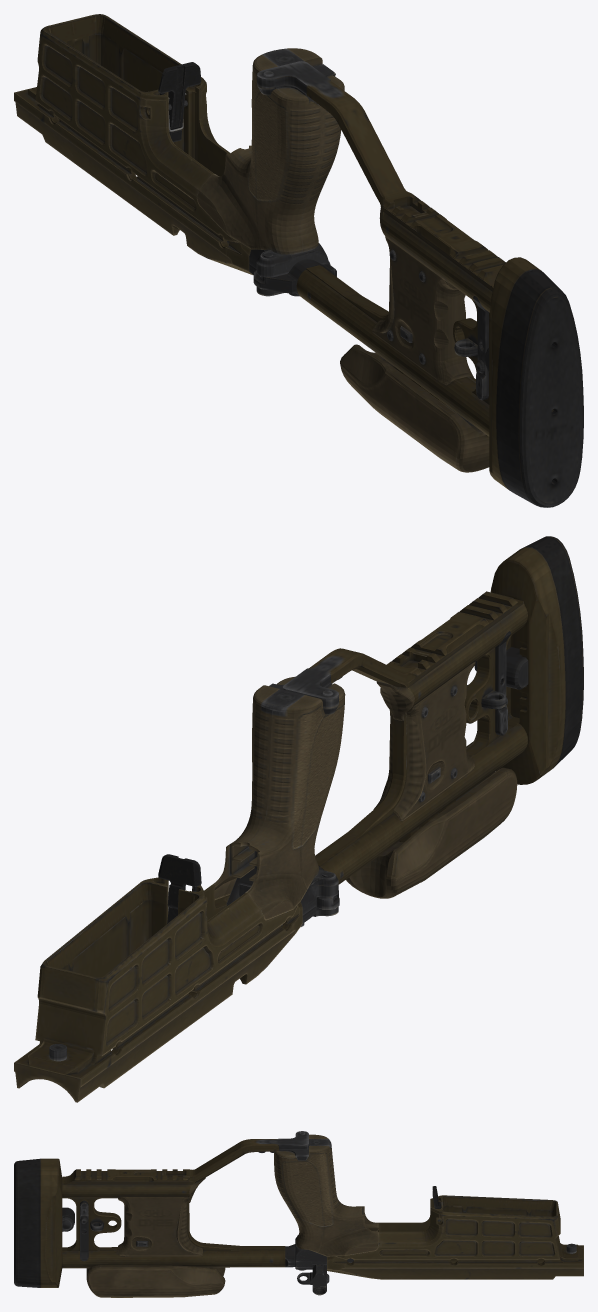
3 views of the same model, one above another, from view 1: azimuth 30°, elevation 25°; view 2: azimuth 150°, elevation 25°; view 3: azimuth 270°, elevation 25° (orthographic). The views are drawn at different scales.
Parts seen in each view (by area): view 1: TW_673cb212e695740be0047a46_PZ_Import; view 2: TW_673cb212e695740be0047a46_PZ_Import; view 3: TW_673cb212e695740be0047a46_PZ_Import.
Boxes of the visible parts, x1,y1,x2,y2 form: TW_673cb212e695740be0047a46_PZ_Import: (14, 14, 583, 507); TW_673cb212e695740be0047a46_PZ_Import: (14, 536, 583, 1102); TW_673cb212e695740be0047a46_PZ_Import: (14, 1131, 583, 1297).
Bounding box in the file's own units: 0.0302 × 0.3155 × 0.0944.
Materials: 1 (1 with a texture image).
